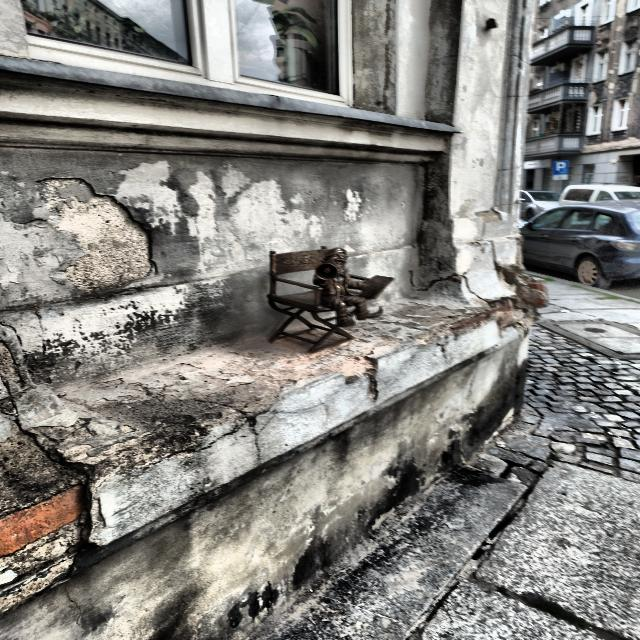Rezyser: (267, 248, 393, 351)
